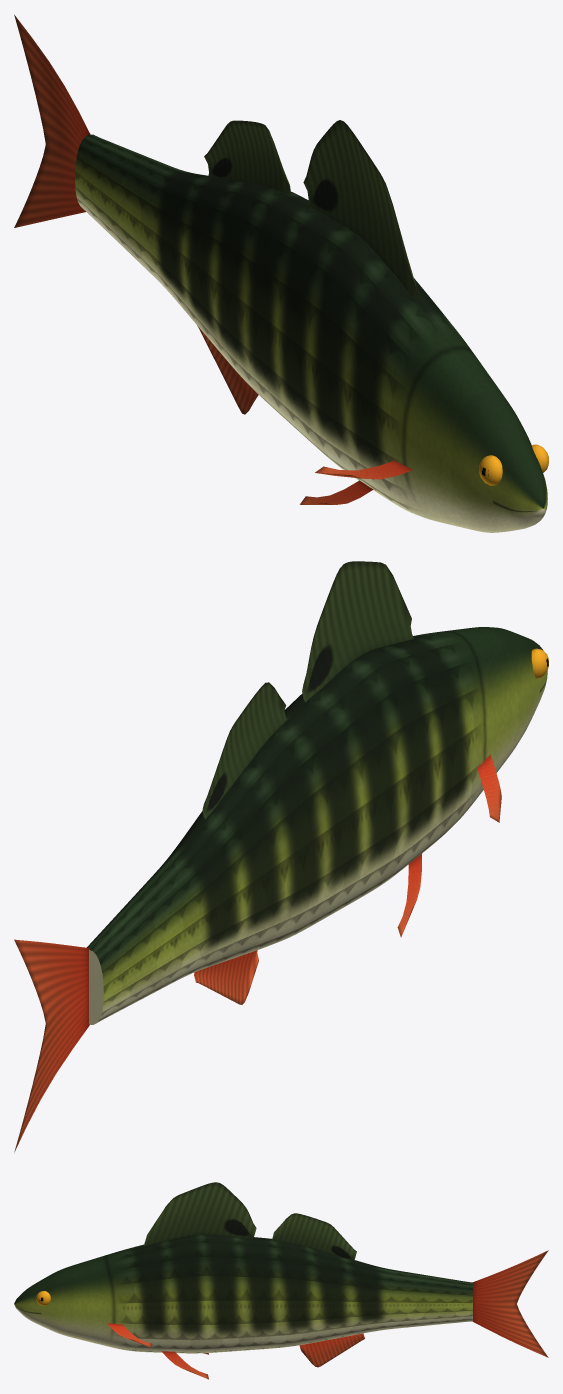
The model's file is perch.obj.
The picture shows the model from 3 angles, top to bottom: view 1: azimuth 30°, elevation 25°; view 2: azimuth 150°, elevation 25°; view 3: azimuth 270°, elevation 25°; orthographic projection. The views are drawn at different scales.
Parts seen in each view (by area): view 1: perch_body, perch_fin_d, perch_fin_p, perch_iris; view 2: perch_body, perch_fin_d, perch_fin_p; view 3: perch_body, perch_fin_d, perch_fin_p.
Part boxes in pixels (box(x1,y1,x2,y2)): perch_body: box(75, 134, 547, 532); perch_fin_d: box(204, 120, 417, 300); perch_fin_p: box(14, 14, 412, 504); perch_iris: box(479, 444, 548, 485); perch_body: box(87, 627, 547, 1024); perch_fin_d: box(202, 561, 413, 819); perch_fin_p: box(14, 755, 501, 1152); perch_body: box(14, 1234, 472, 1353); perch_fin_d: box(143, 1182, 356, 1260); perch_fin_p: box(107, 1250, 548, 1379).
Size of the model in its own units: 0.0705 by 0.1336 by 0.3498.
5 materials, 3 textured.
